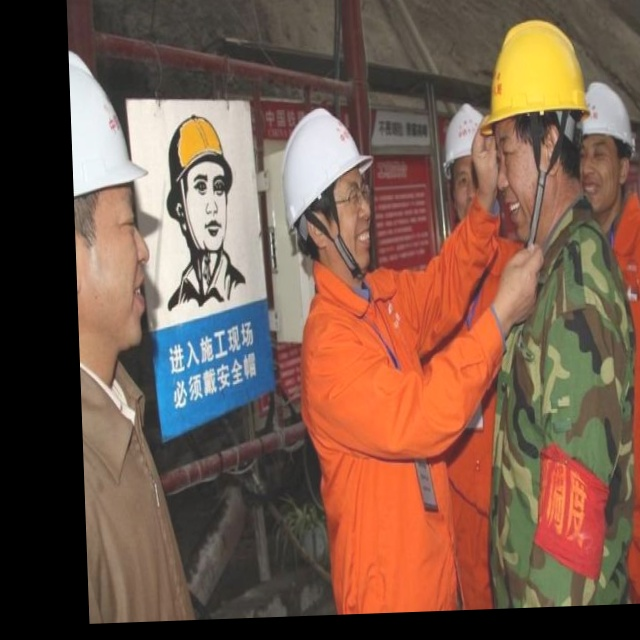Con_Casco: (279, 109, 380, 267)
